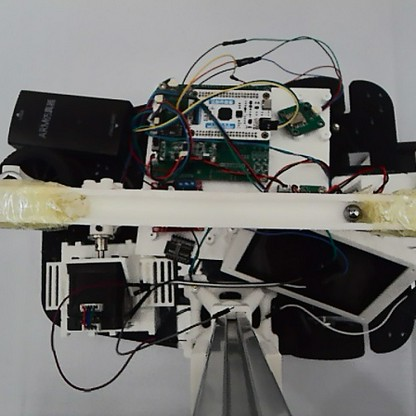ironball: (342, 201, 362, 224)
